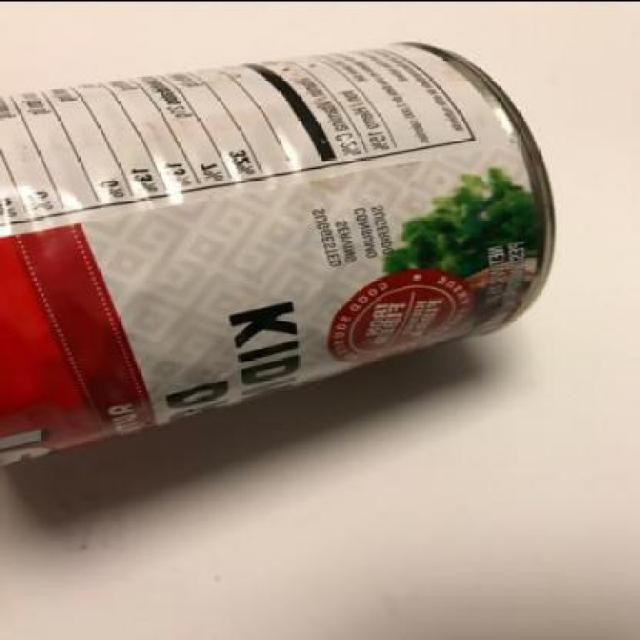METAL: (0, 39, 554, 464)
